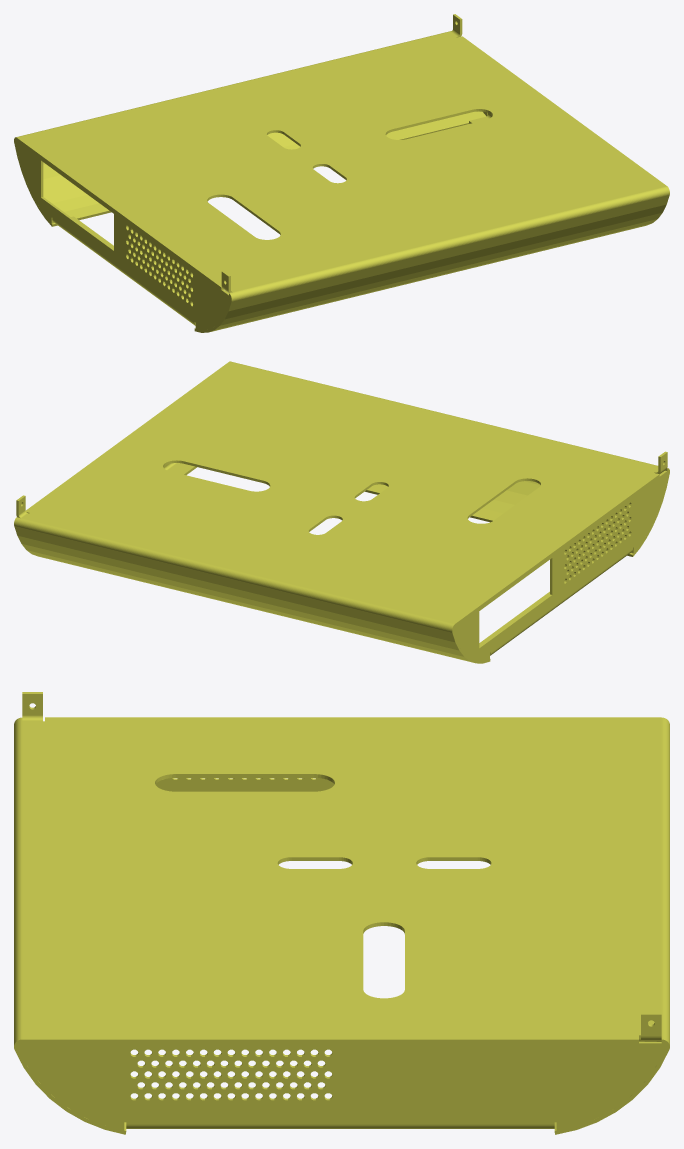
The model's file is topenclosure.dae.
3 renders of one model, top to bottom at view 1: azimuth 30°, elevation 25°; view 2: azimuth 150°, elevation 25°; view 3: azimuth 270°, elevation 25°, orthographic. The views are drawn at different scales.
Visible parts, largest first — view 1: robot_assembly_-_enclosure_assembly-1_enclosuresemi-1; view 2: robot_assembly_-_enclosure_assembly-1_enclosuresemi-1; view 3: robot_assembly_-_enclosure_assembly-1_enclosuresemi-1.
Boxes of the visible parts, box(x1,y1,x2,y2) form: robot_assembly_-_enclosure_assembly-1_enclosuresemi-1: box(14, 14, 669, 332); robot_assembly_-_enclosure_assembly-1_enclosuresemi-1: box(14, 361, 669, 663); robot_assembly_-_enclosure_assembly-1_enclosuresemi-1: box(14, 692, 669, 1134).
Size of the model in its own units: 0.551 by 0.4735 by 0.096.
